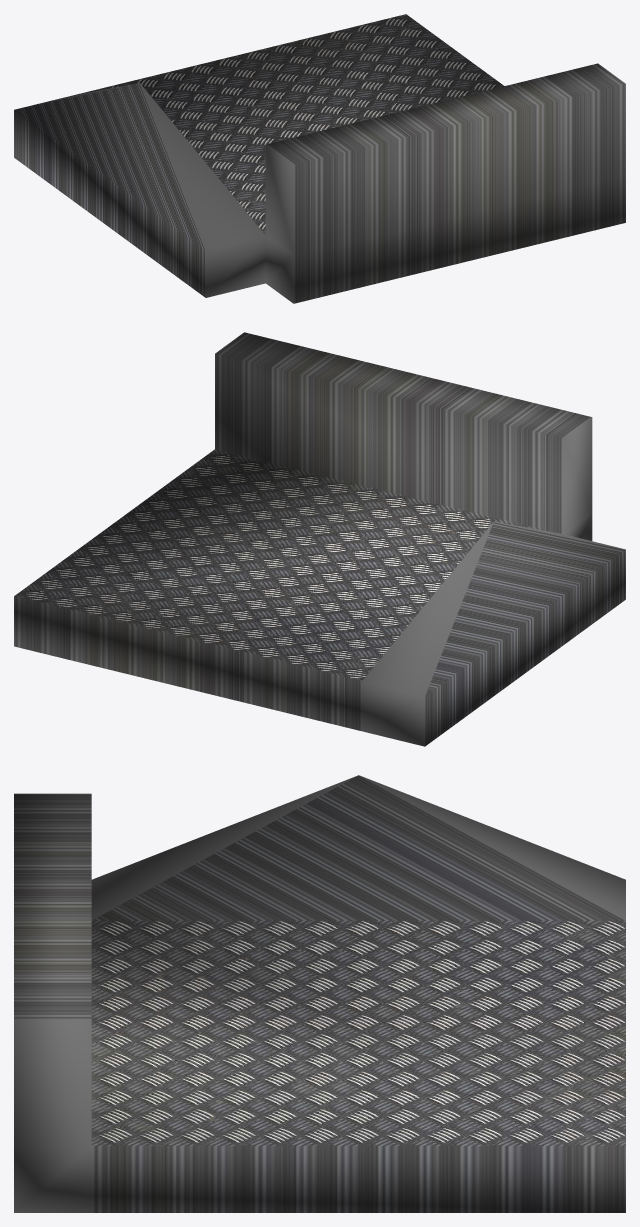
Rendered from plano3.obj.
3 renders of one model, top to bottom at view 1: azimuth 30°, elevation 25°; view 2: azimuth 150°, elevation 25°; view 3: azimuth 270°, elevation 25°, orthographic. The views are drawn at different scales.
Visible parts, largest first — view 1: Plane; view 2: Plane; view 3: Plane.
Part boxes in pixels (bbox=[...]): Plane: bbox=[14, 14, 625, 303]; Plane: bbox=[14, 332, 625, 746]; Plane: bbox=[14, 775, 625, 1212].
Bounding box in the file's own units: 15.08 × 5.11 × 14.63.
1 material, 1 textured.
